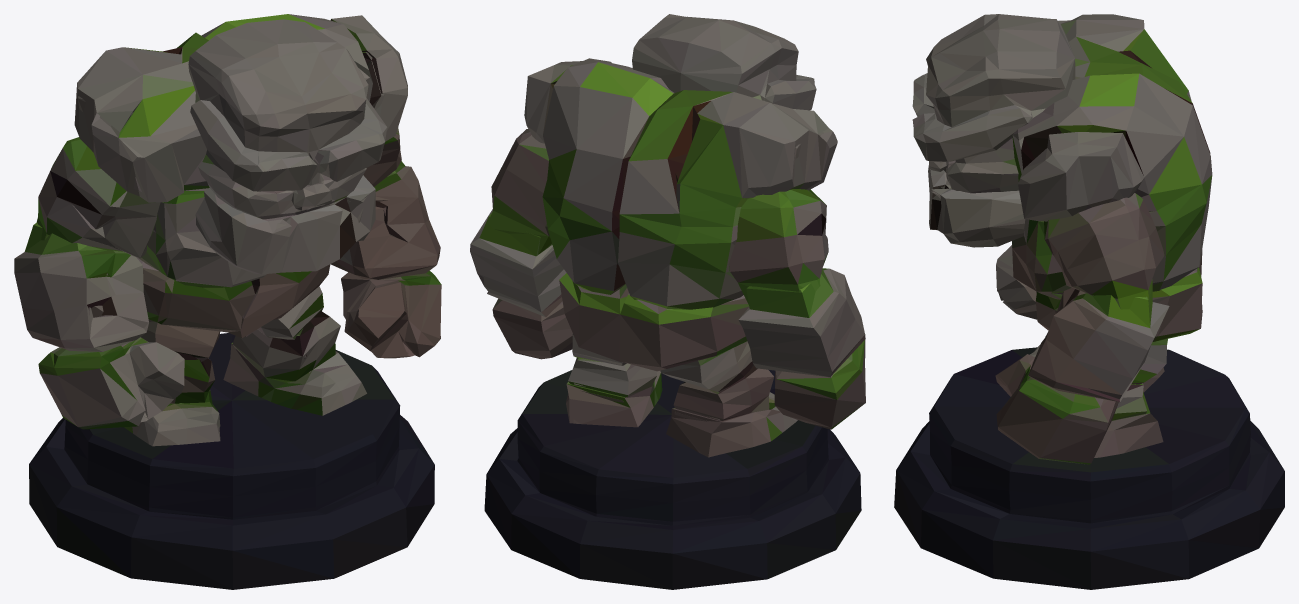
Rendered from golem_pierre.glb.
3 views of the same model, side by side, from view 1: azimuth 30°, elevation 25°; view 2: azimuth 150°, elevation 25°; view 3: azimuth 270°, elevation 25° (orthographic). The views are drawn at different scales.
Parts seen in each view (by area): view 1: mesh_node; view 2: mesh_node; view 3: mesh_node.
Boxes of the visible parts, x1,y1,x2,y2 form: mesh_node: [14, 14, 441, 589]; mesh_node: [470, 14, 865, 589]; mesh_node: [894, 14, 1284, 589].
Size of the model in its own units: 0.8047 by 1 by 0.7422.
